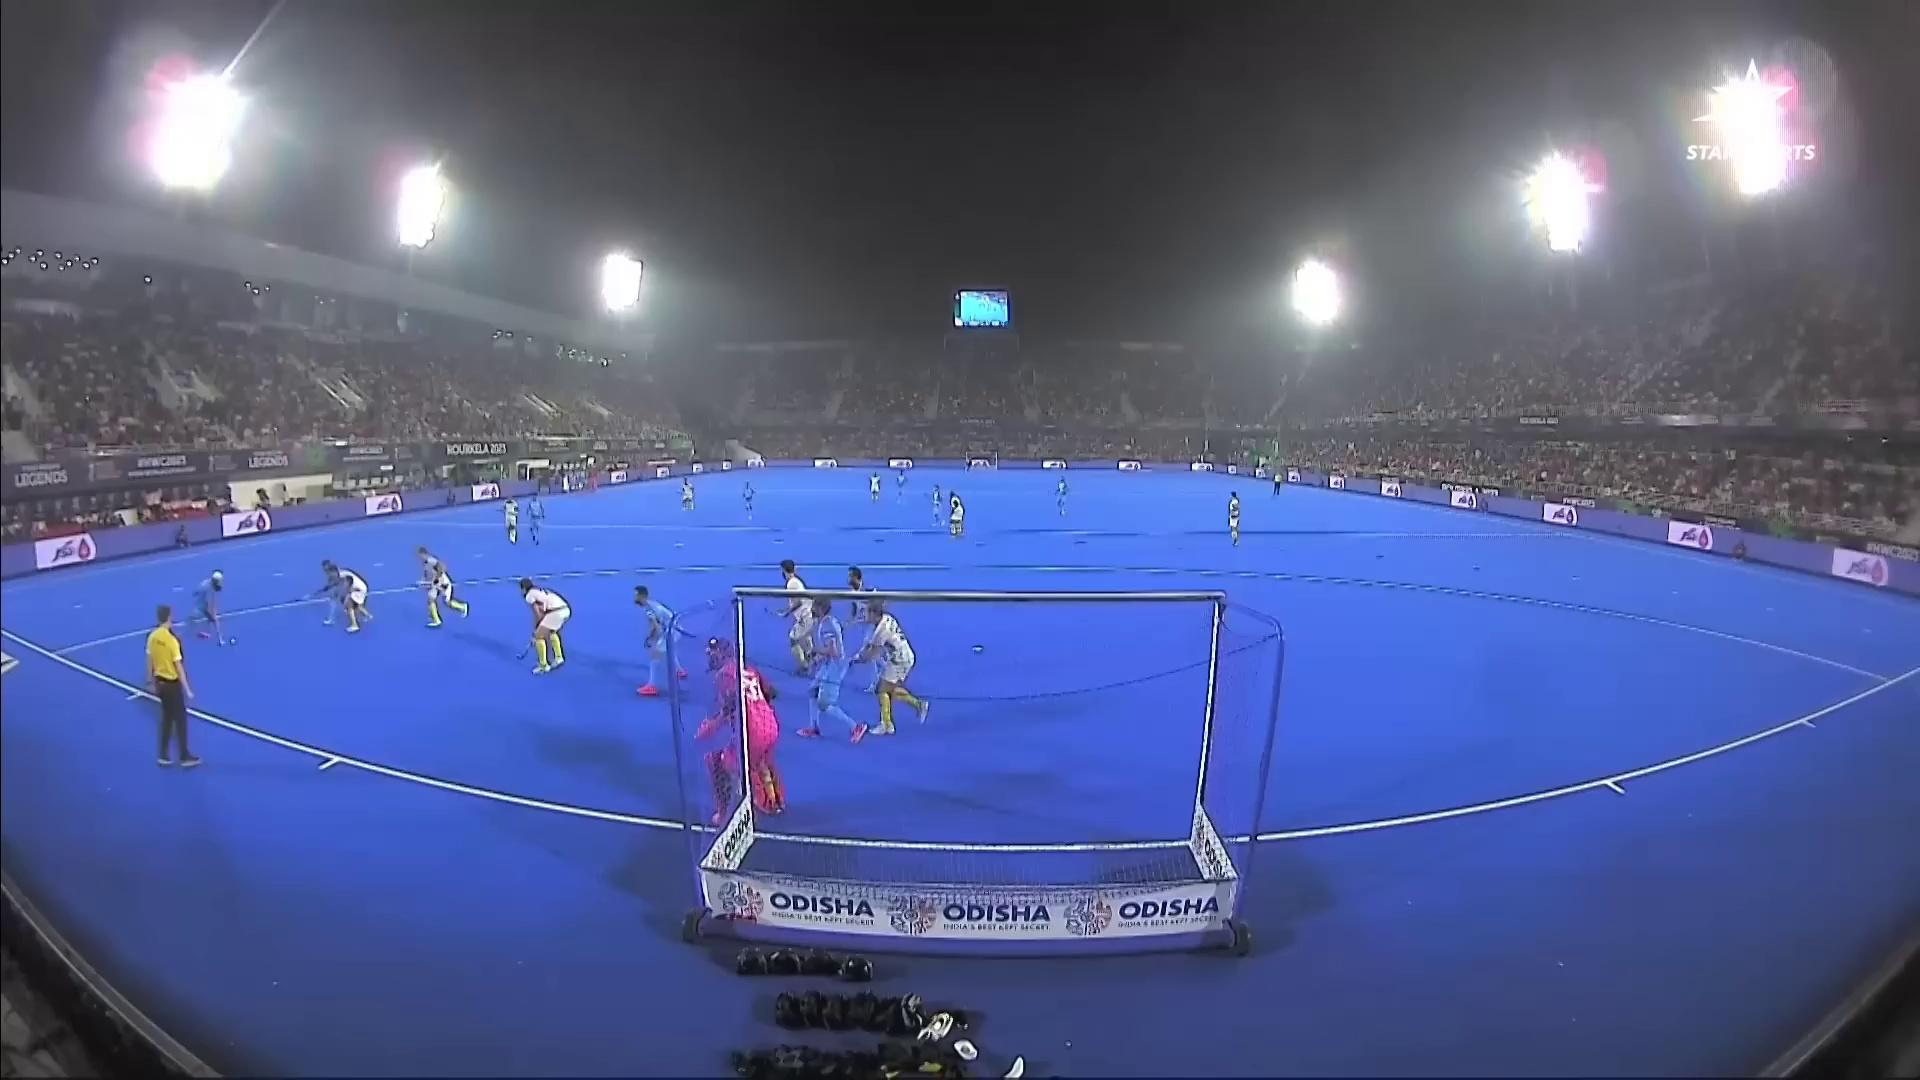ball: (229, 637, 236, 645)
